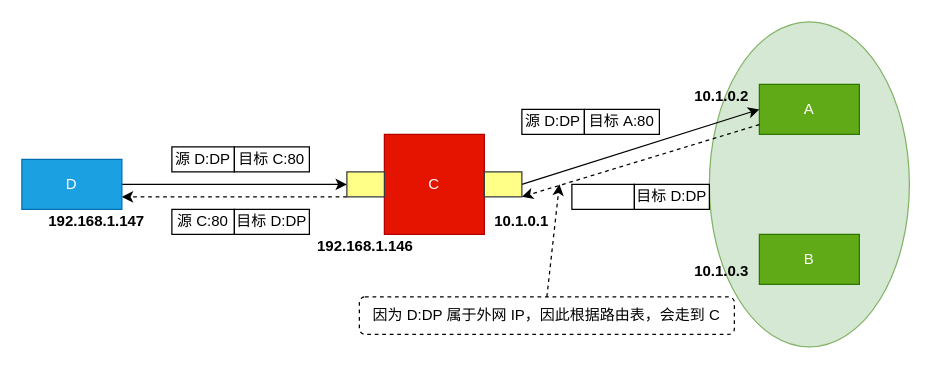
The diagram is 931 pixels wide and 369 high, and some of its shapes have lost their labels. Each missing label, with the centre of its shape:
"eth0" goes at point (502, 184).
"eth1" goes at point (365, 184).
"源 A:80" goes at point (602, 196).
